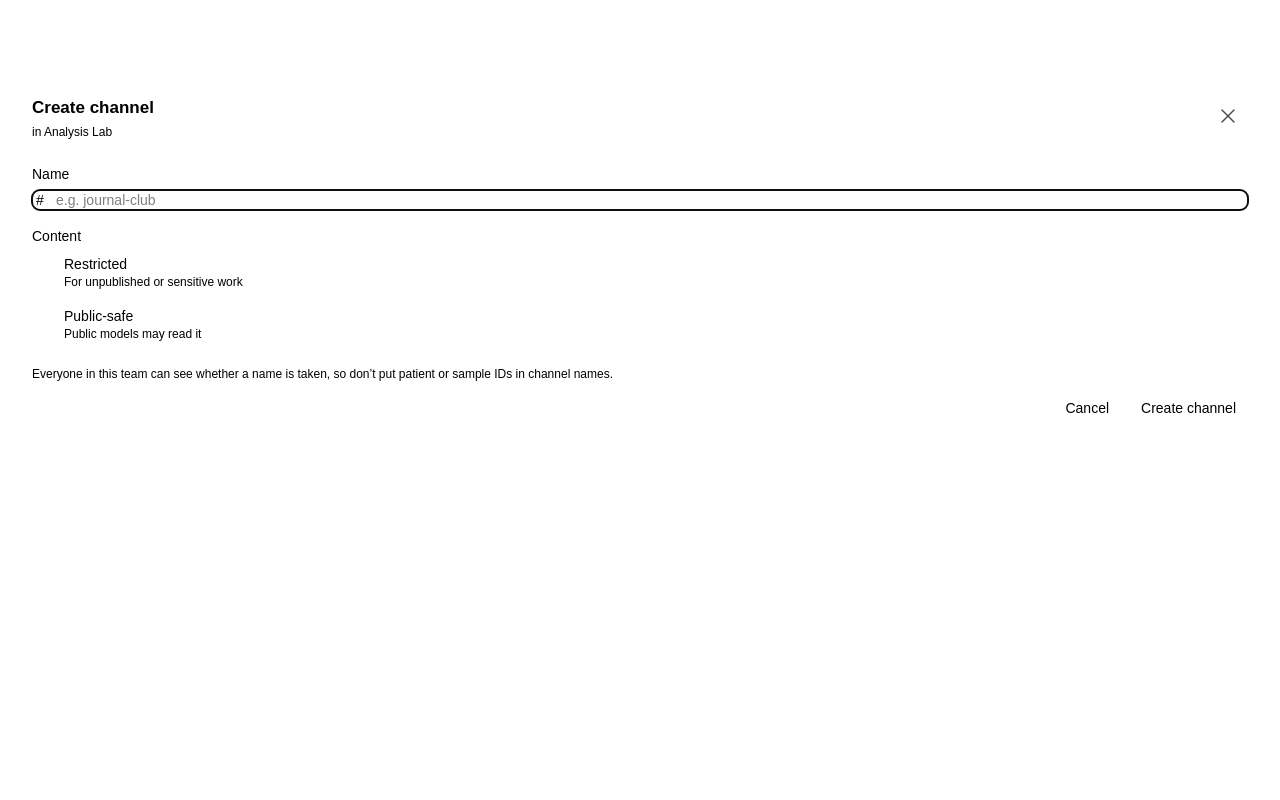
Test: CreateChannelDialog › shows the S2 refusal on the name, in its exact words
The image size is (1280, 800).
Type "methods" into the field labelled "Name" at {"x": 640, "y": 200}, box [32,190,1248,210]
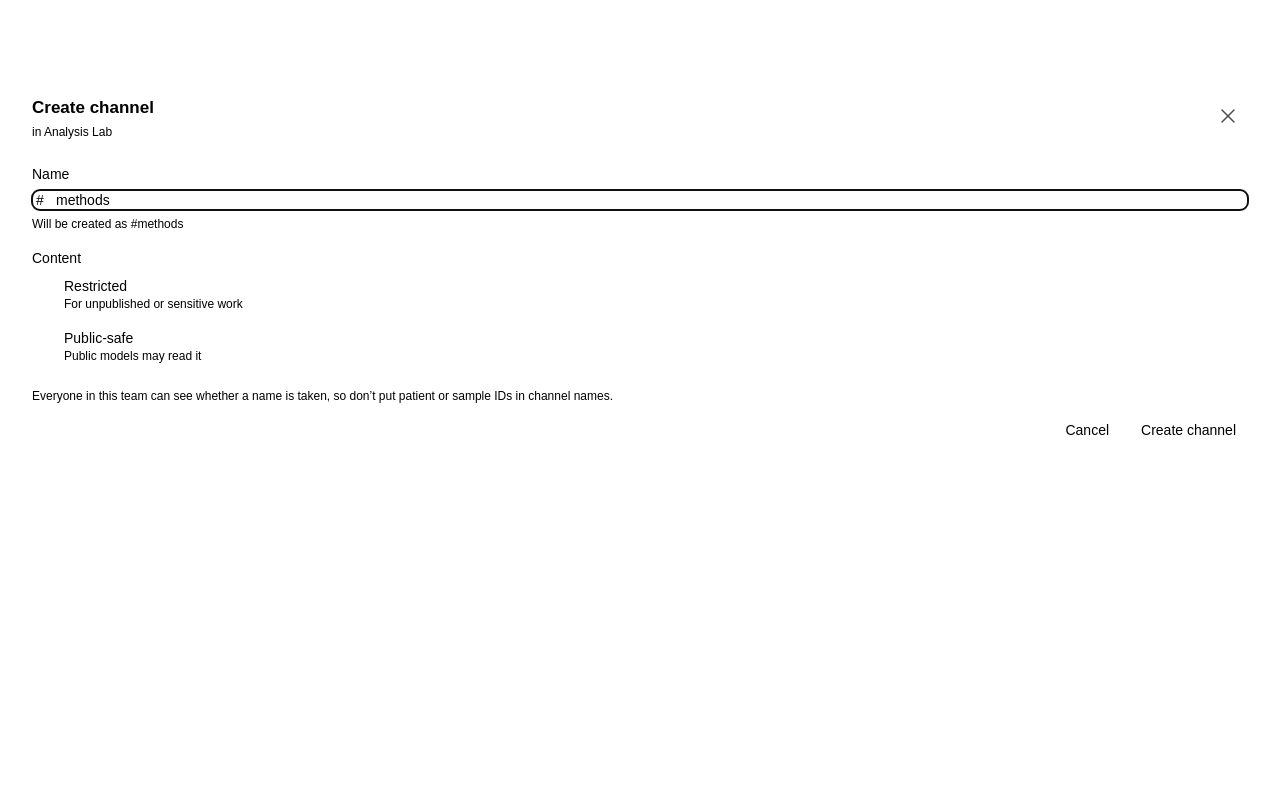
Click the button "Create channel" at {"x": 1188, "y": 430}, box [1129,420,1248,440]
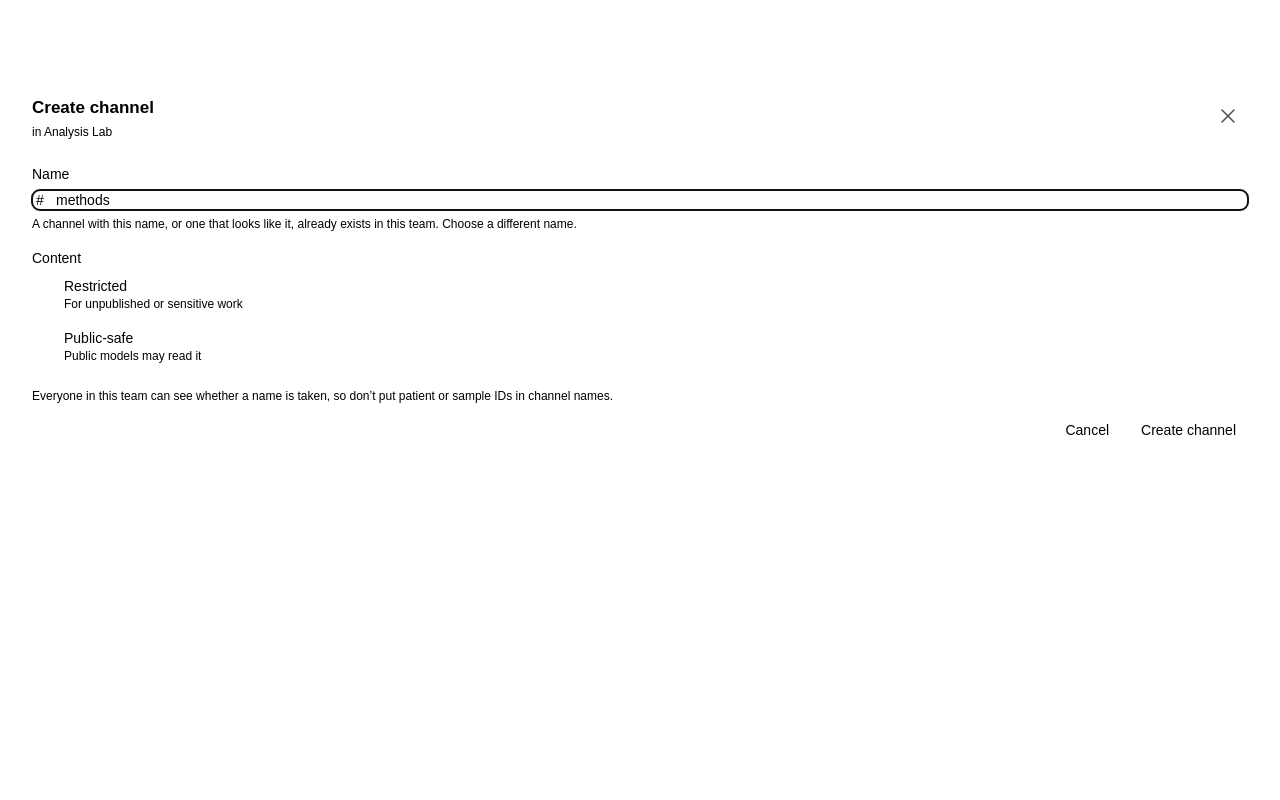
Expected: the text "A channel with this name, or one that looks like it, already exists in this team. Choose a different name." is shown, [32,217,577,231]
